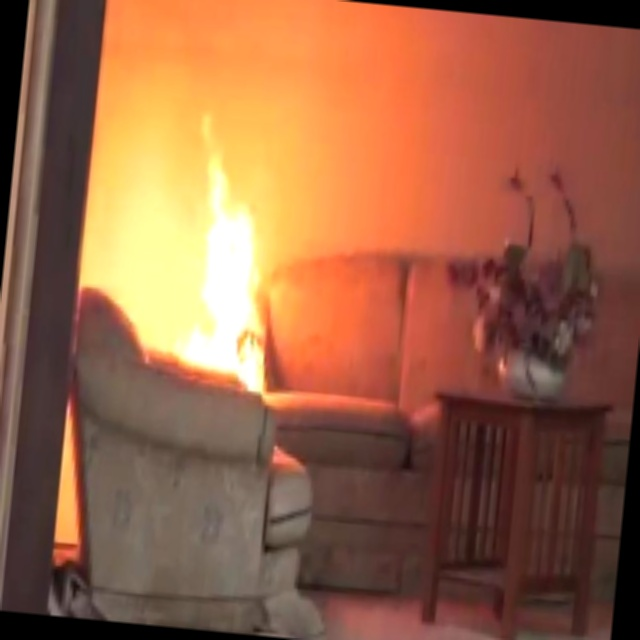fire: (144, 133, 293, 393)
